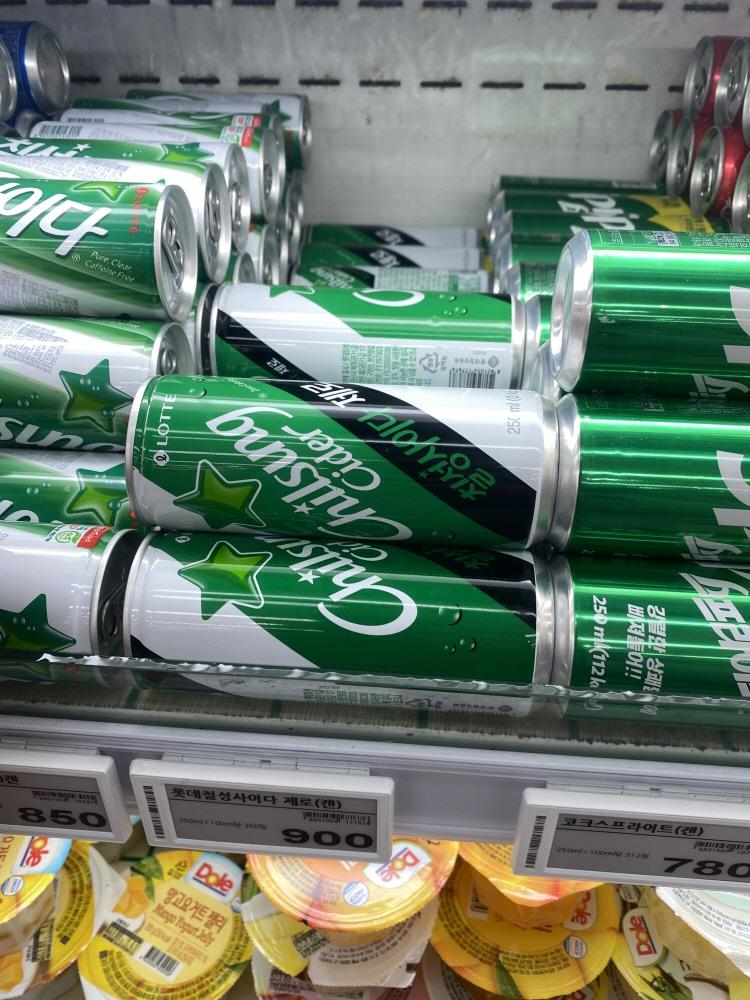chilsungcider_zero: (136, 373, 570, 554)
